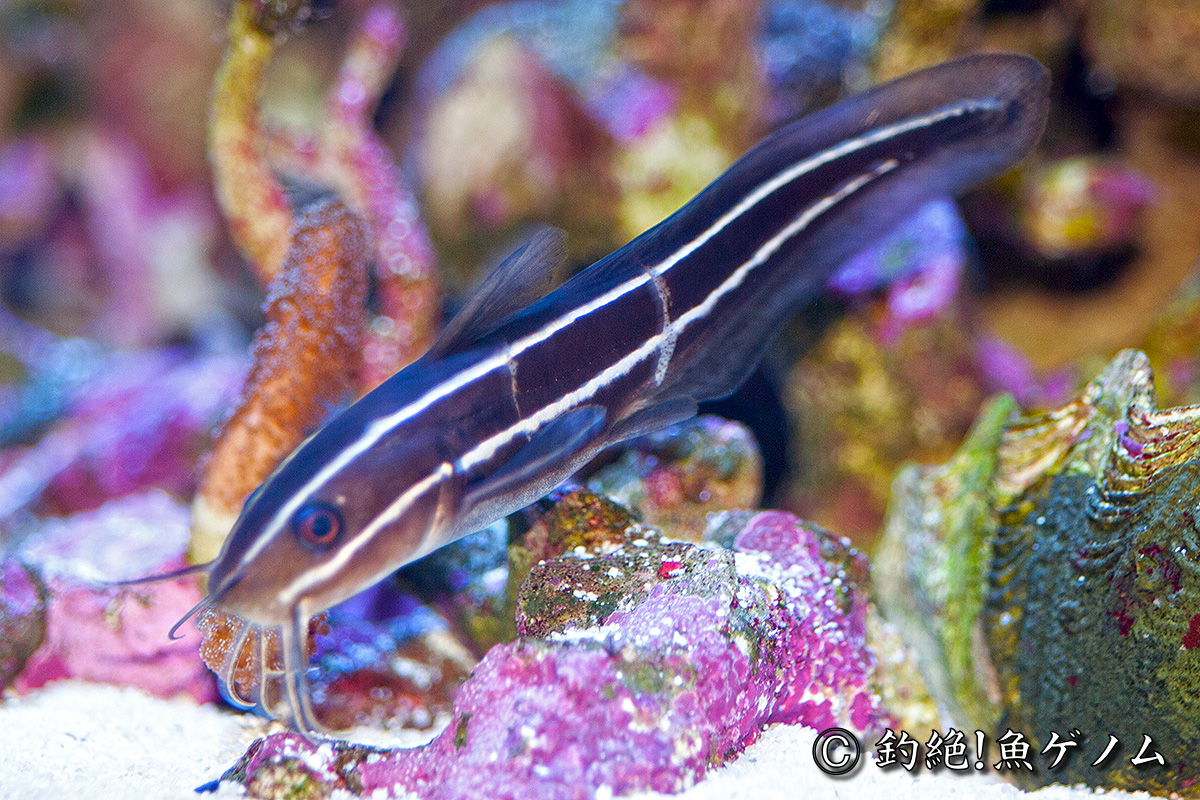gonzui: (104, 43, 1088, 735)
